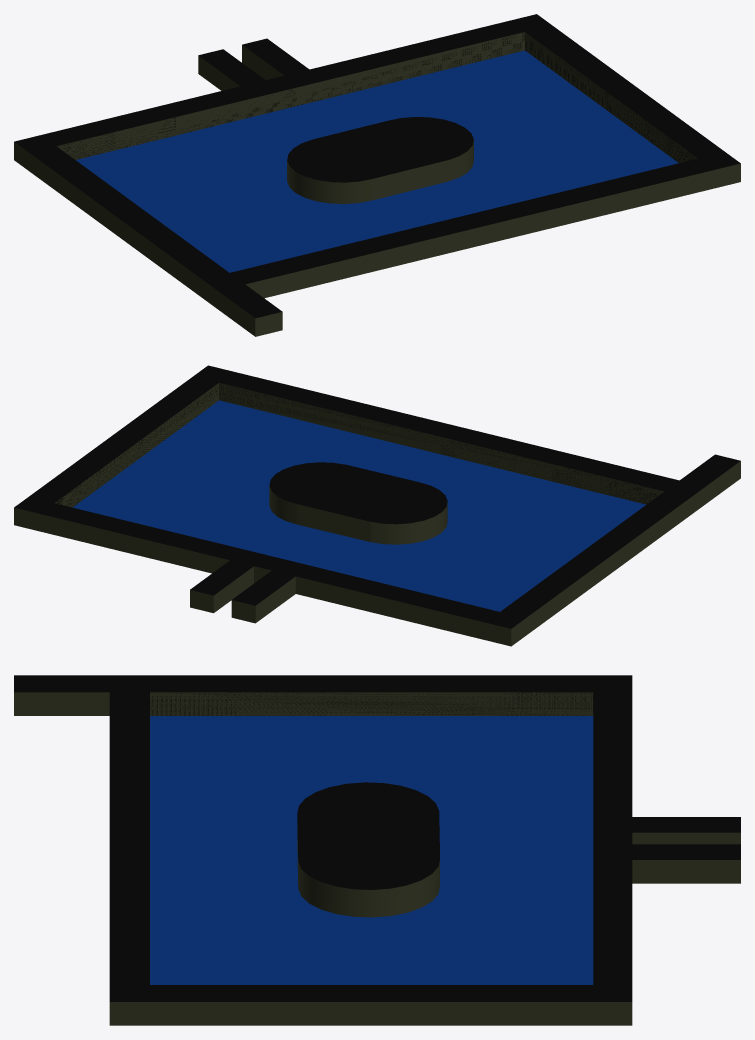
The model's file is ORBAT_ORBAT_II_REGT.dae.
3 renders of one model, top to bottom at view 1: azimuth 30°, elevation 25°; view 2: azimuth 150°, elevation 25°; view 3: azimuth 270°, elevation 25°, orthographic. The views are drawn at different scales.
Visible parts, largest first — view 1: SketchUp (×6); view 2: SketchUp (×6); view 3: SketchUp (×6).
Boxes of the visible parts, x1=… form: SketchUp (×6): x1=14, y1=14, x2=740, y2=336; SketchUp (×6): x1=14, y1=365, x2=740, y2=646; SketchUp (×6): x1=14, y1=675, x2=740, y2=1025.
Bounding box in the file's own units: 44.14 × 41.51 × 1.73.
